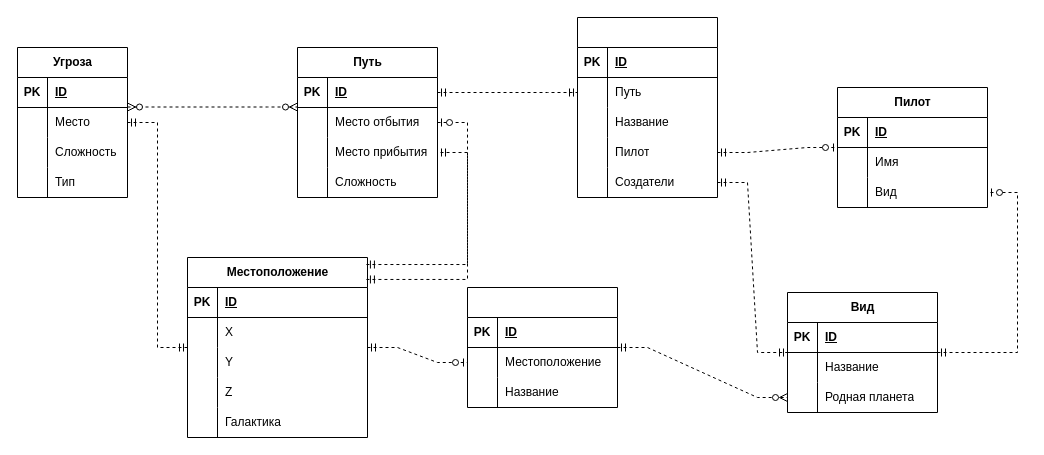
Some shapes in this 1044 by 455 pixel diagram are drawn without their labels. The box of each missing label's shape, as (x1, y1, x2, y2) in pixels:
Планета: (466, 286, 618, 408)
Планетолет: (576, 16, 718, 198)
